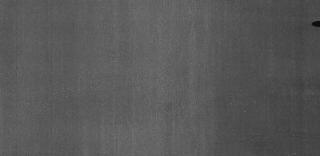punching hole: (311, 19, 319, 27)
